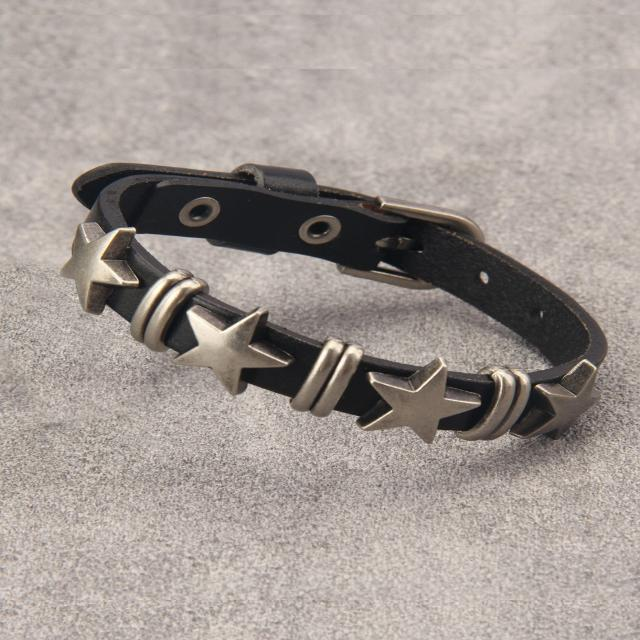bracelet: (5, 97, 640, 528)
